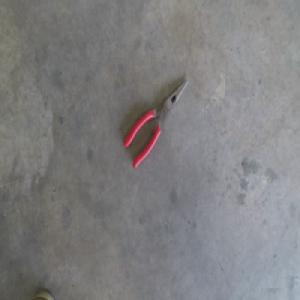Pliers: (122, 80, 188, 172)
